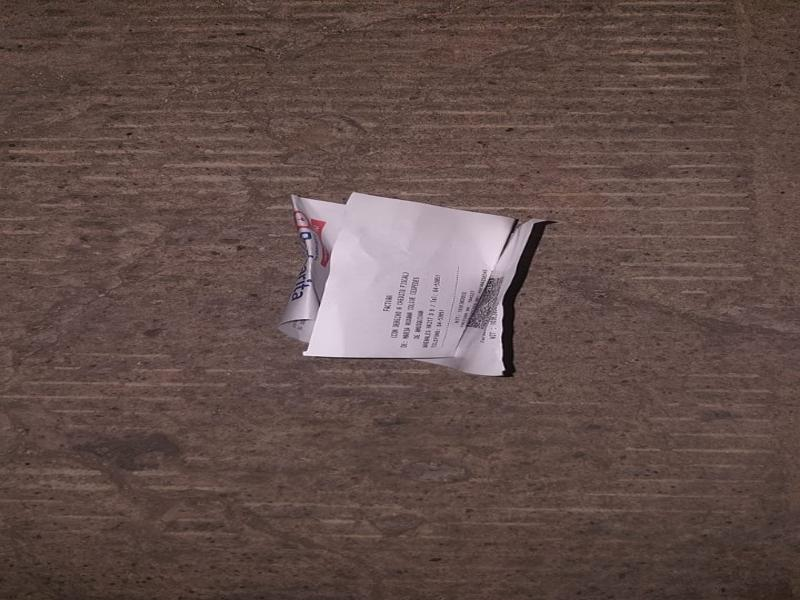papel: (277, 193, 548, 379)
